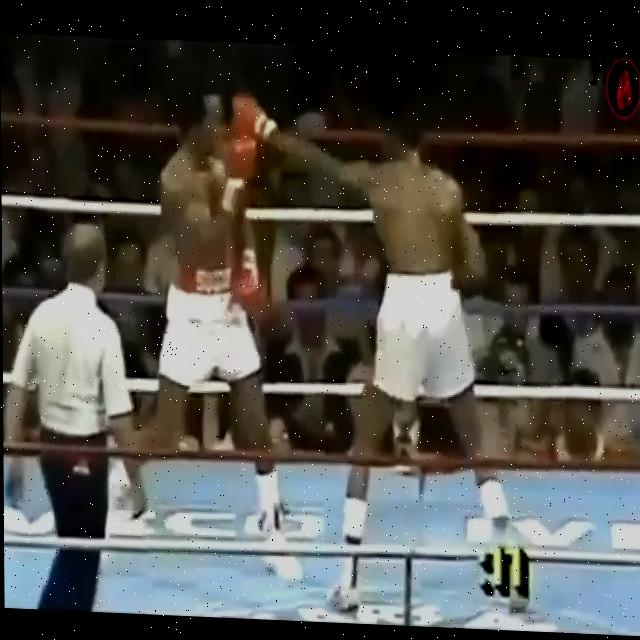Jab: (224, 82, 412, 281)
